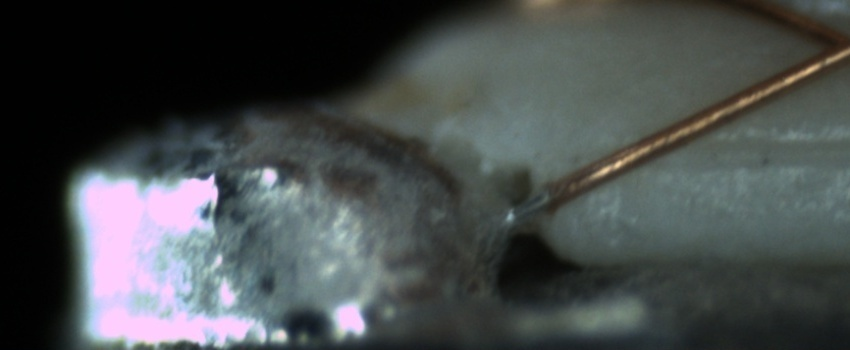CL: (793, 9, 850, 79)
DL: (669, 117, 849, 185)
TS: (507, 184, 554, 226)
TTCW: (506, 164, 590, 225)
